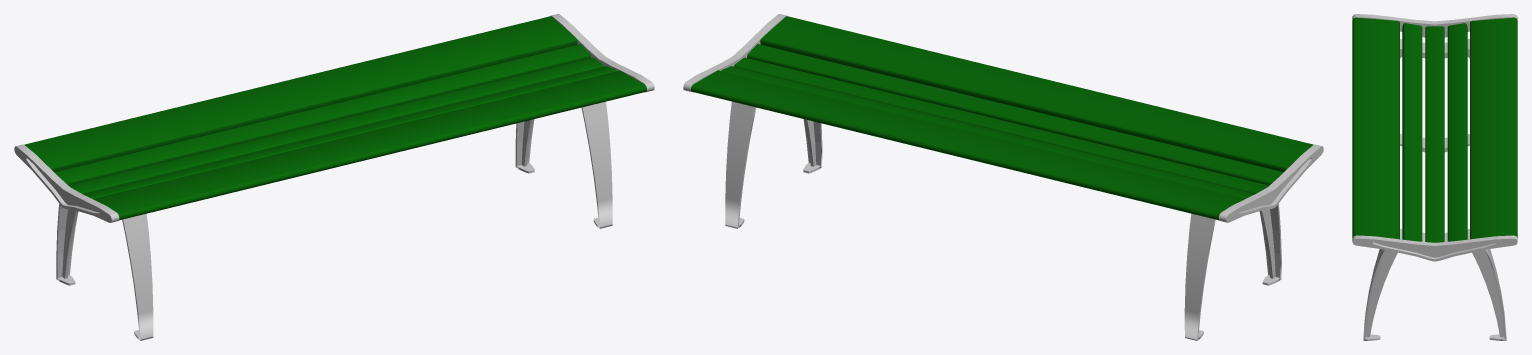
The picture shows the model from 3 angles, left to right: view 1: azimuth 30°, elevation 25°; view 2: azimuth 150°, elevation 25°; view 3: azimuth 270°, elevation 25°; orthographic projection. The views are drawn at different scales.
Visible parts, largest first — view 1: mesh9_mesh9-geometry, mesh12_mesh12-geometry, mesh1_mesh1-geometry, mesh3_mesh3-geometry; view 2: mesh9_mesh9-geometry, mesh12_mesh12-geometry, mesh1_mesh1-geometry, mesh3_mesh3-geometry; view 3: mesh9_mesh9-geometry, mesh12_mesh12-geometry, mesh3_mesh3-geometry, mesh1_mesh1-geometry, mesh7_mesh7-geometry.
Part boxes in pixels (bbox=[...]): mesh9_mesh9-geometry: bbox=[24, 16, 646, 220]; mesh12_mesh12-geometry: bbox=[54, 44, 616, 198]; mesh1_mesh1-geometry: bbox=[56, 101, 612, 340]; mesh3_mesh3-geometry: bbox=[14, 14, 654, 222]; mesh9_mesh9-geometry: bbox=[691, 16, 1313, 220]; mesh12_mesh12-geometry: bbox=[721, 44, 1283, 198]; mesh1_mesh1-geometry: bbox=[725, 101, 1281, 340]; mesh3_mesh3-geometry: bbox=[683, 14, 1323, 222]; mesh9_mesh9-geometry: bbox=[1352, 17, 1517, 239]; mesh12_mesh12-geometry: bbox=[1402, 23, 1467, 242]; mesh3_mesh3-geometry: bbox=[1352, 14, 1517, 261]; mesh1_mesh1-geometry: bbox=[1363, 39, 1506, 340]; mesh7_mesh7-geometry: bbox=[1400, 134, 1469, 152].
Size of the model in its own units: 0.93 by 0.2262 by 0.2897.
